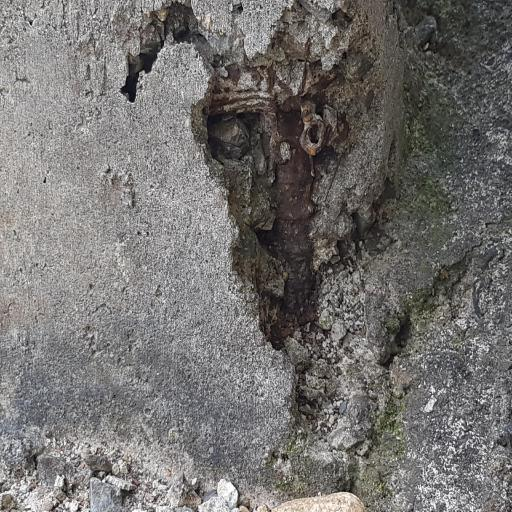exposed_rebar: (206, 64, 316, 339)
